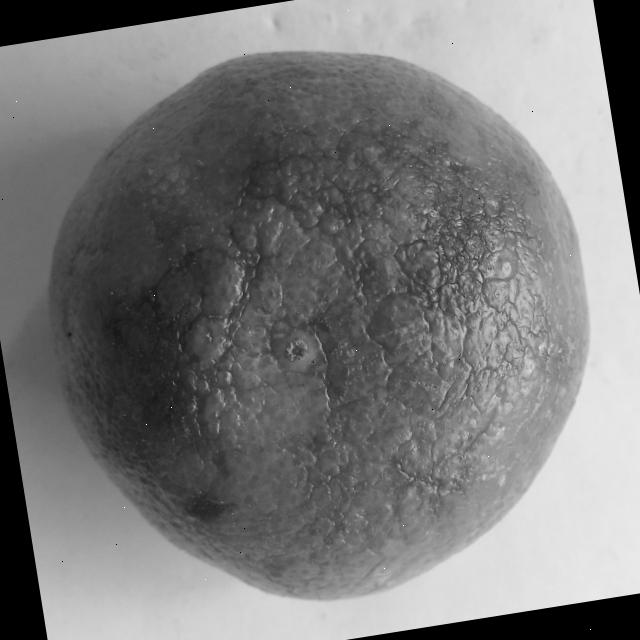overripe: (8, 2, 637, 640)
